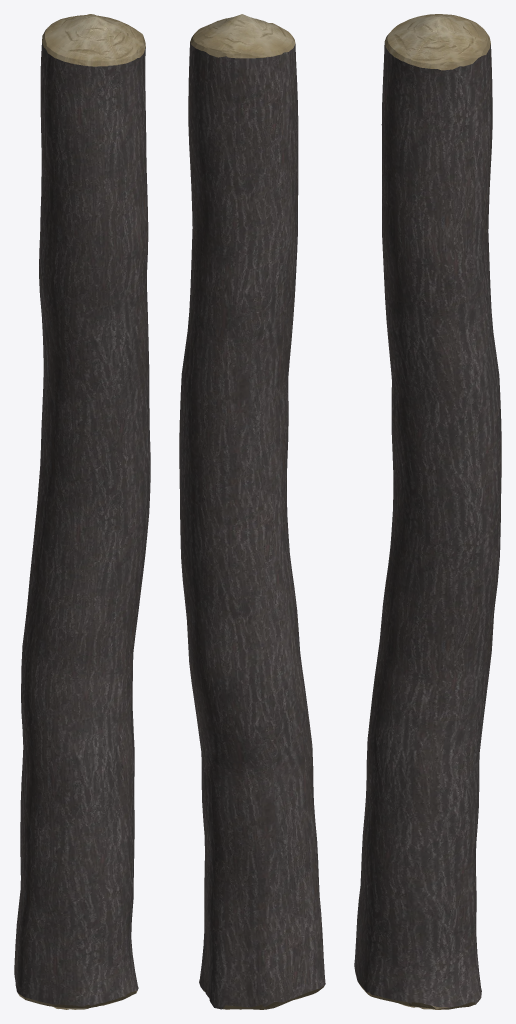
3 renders of one model, left to right at view 1: azimuth 30°, elevation 25°; view 2: azimuth 150°, elevation 25°; view 3: azimuth 330°, elevation 25°, orthographic.
Parts seen in each view (by area): view 1: SM_BM_Oak_Tree_01_tree_quarters_bottom_LOD0; view 2: SM_BM_Oak_Tree_01_tree_quarters_bottom_LOD0; view 3: SM_BM_Oak_Tree_01_tree_quarters_bottom_LOD0.
Boxes of the visible parts, <box> form: SM_BM_Oak_Tree_01_tree_quarters_bottom_LOD0: <box>14,14,150,1009</box>; SM_BM_Oak_Tree_01_tree_quarters_bottom_LOD0: <box>179,14,325,1009</box>; SM_BM_Oak_Tree_01_tree_quarters_bottom_LOD0: <box>354,14,501,1009</box>.
Bounding box in the file's own units: 1.04 × 7.54 × 0.9291.
1 material, 1 textured.
